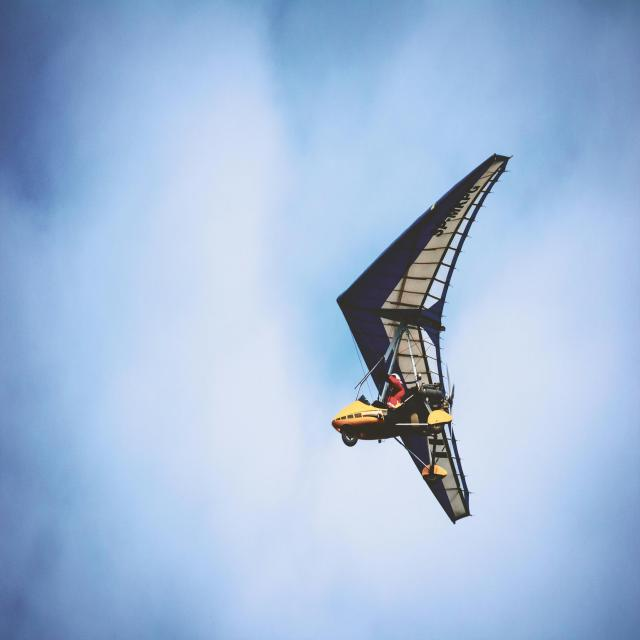sit: (373, 364, 412, 416)
